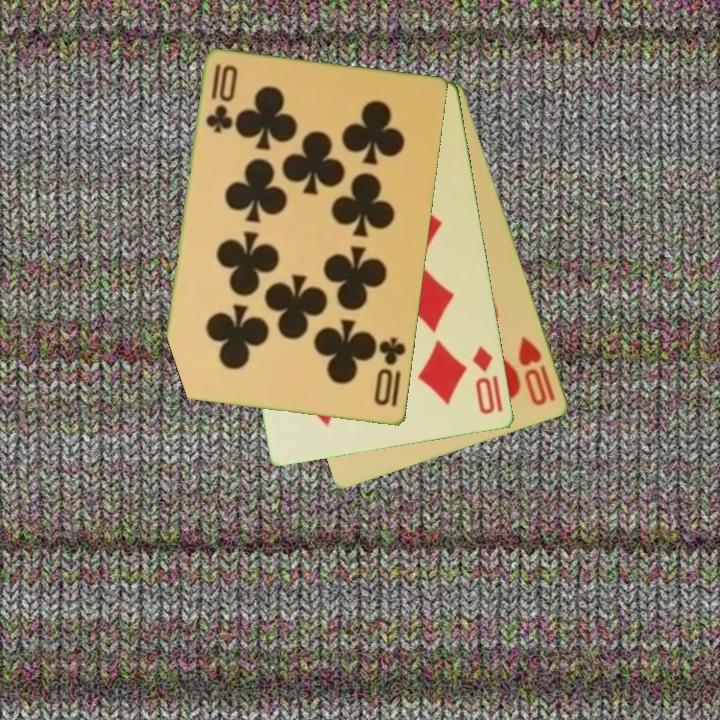10c: (371, 334, 409, 409), (203, 61, 239, 136)
10d: (469, 343, 506, 418)
10h: (515, 333, 559, 409)
